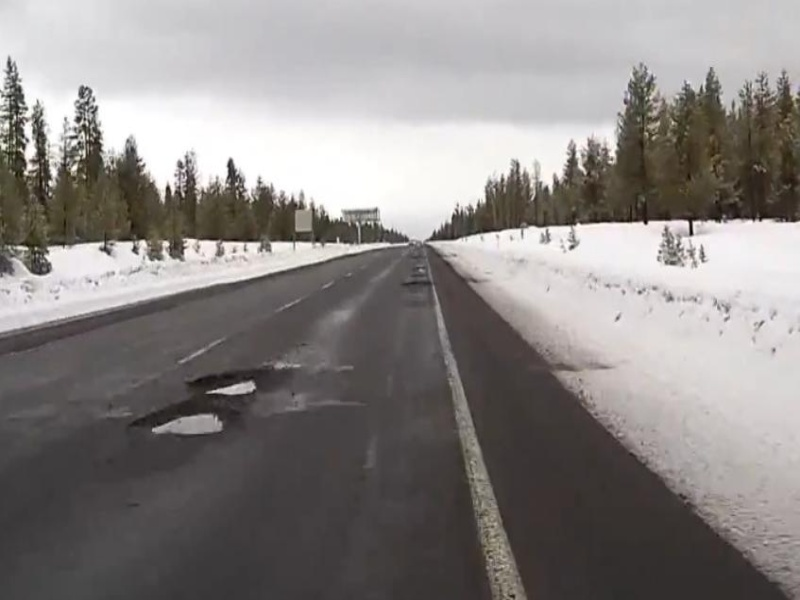pothole: (142, 403, 236, 437), (196, 372, 275, 400)
